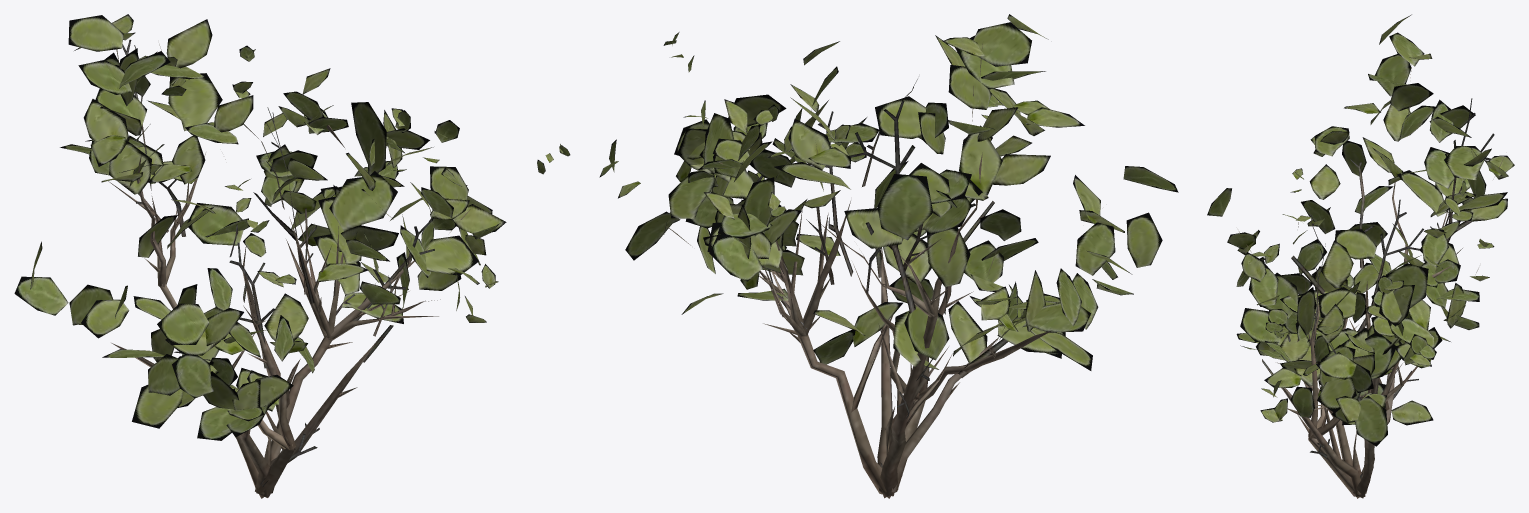
File: arbuste_searsia_e_lod1.glb
3 views of the same model, side by side, from view 1: azimuth 30°, elevation 25°; view 2: azimuth 150°, elevation 25°; view 3: azimuth 270°, elevation 25° (orthographic). The views are drawn at different scales.
Parts seen in each view (by area): view 1: searsia_lucida_e_LOD0; view 2: searsia_lucida_e_LOD0; view 3: searsia_lucida_e_LOD0.
Boxes of the visible parts, x1,y1,x2,y2 form: searsia_lucida_e_LOD0: (14,14,570,498); searsia_lucida_e_LOD0: (599,14,1178,498); searsia_lucida_e_LOD0: (1207,14,1514,498).
Bounding box in the file's own units: 1.03 × 0.9837 × 0.6529.
2 materials, 2 textured.
